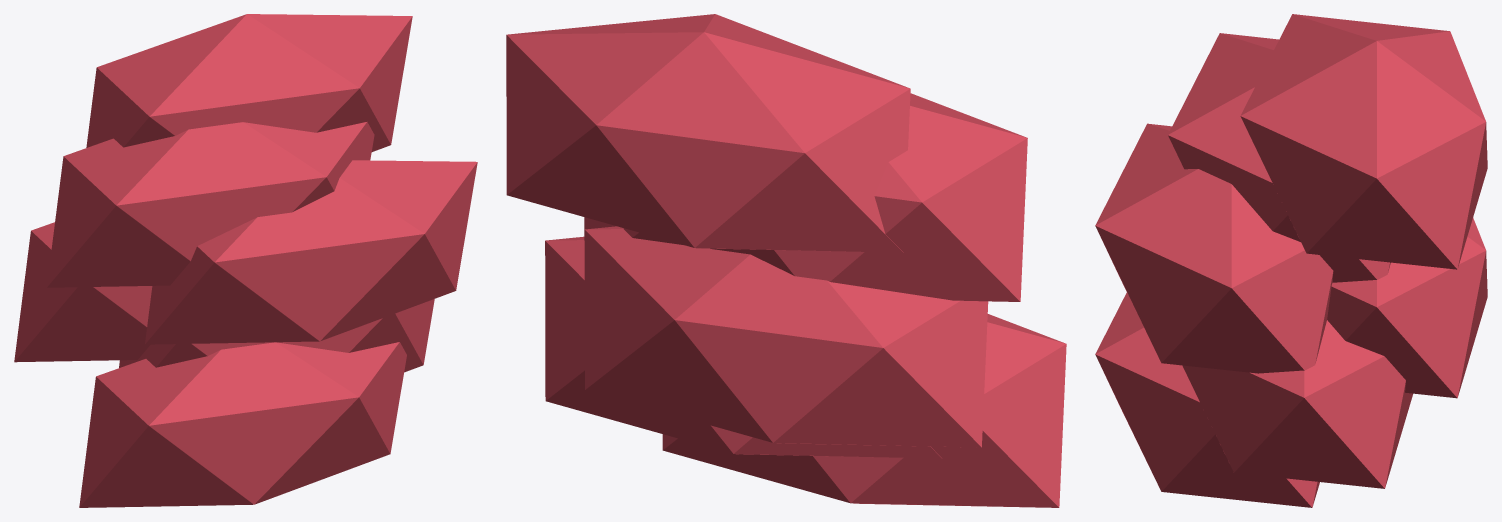
File: item_026_dried_berries_l.glb
The picture shows the model from 3 angles, left to right: view 1: azimuth 30°, elevation 25°; view 2: azimuth 150°, elevation 25°; view 3: azimuth 270°, elevation 25°; orthographic projection. The views are drawn at different scales.
Parts seen in each view (by area): view 1: item_026_dried_berries_l; view 2: item_026_dried_berries_l; view 3: item_026_dried_berries_l.
Part boxes in pixels (x1,y1,x2,y2): item_026_dried_berries_l: (14,14,477,507); item_026_dried_berries_l: (506,14,1066,507); item_026_dried_berries_l: (1095,14,1487,507).
Bounding box in the file's own units: 0.4248 × 0.4348 × 0.3245.
